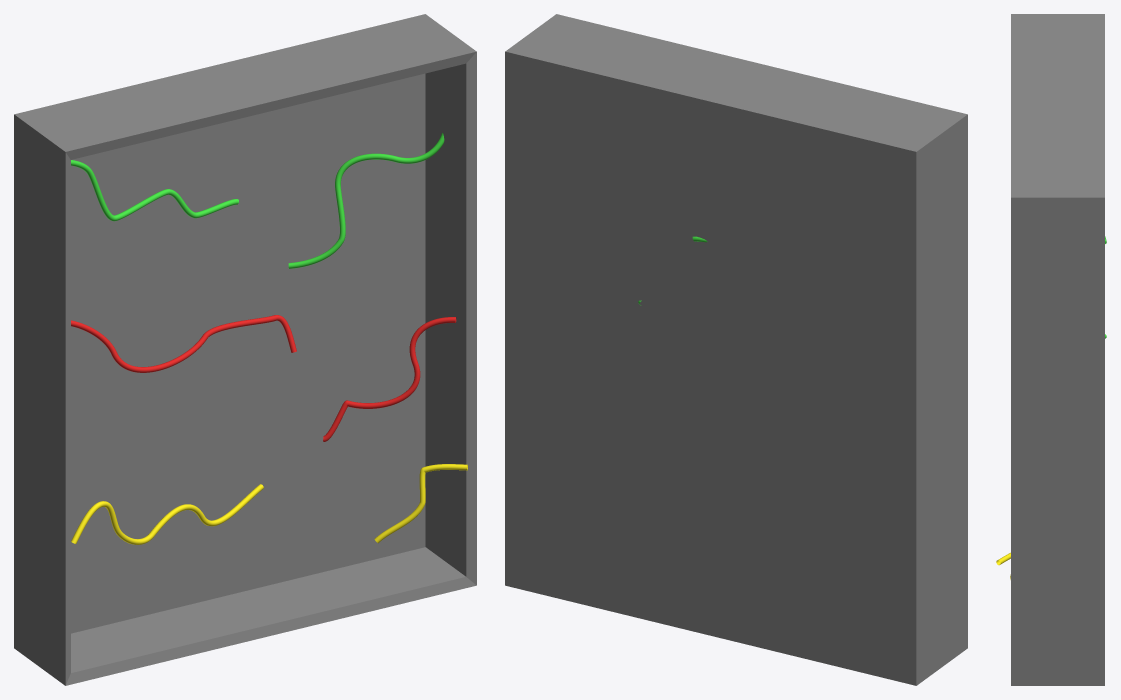
Rendered from notFixedWires.fbx.
The picture shows the model from 3 angles, left to right: view 1: azimuth 30°, elevation 25°; view 2: azimuth 150°, elevation 25°; view 3: azimuth 270°, elevation 25°; orthographic projection. The views are drawn at different scales.
Visible parts, largest first — view 1: notFixedWires, BézierCurve; view 2: notFixedWires; view 3: notFixedWires.
Boxes of the visible parts, left/top/right/bottom form: notFixedWires: left=14, top=14, right=476, bottom=685; BézierCurve: left=71, top=133, right=467, bottom=544; notFixedWires: left=505, top=14, right=967, bottom=685; notFixedWires: left=1011, top=14, right=1104, bottom=685.
Size of the model in its own units: 161 by 200 by 40.98.
